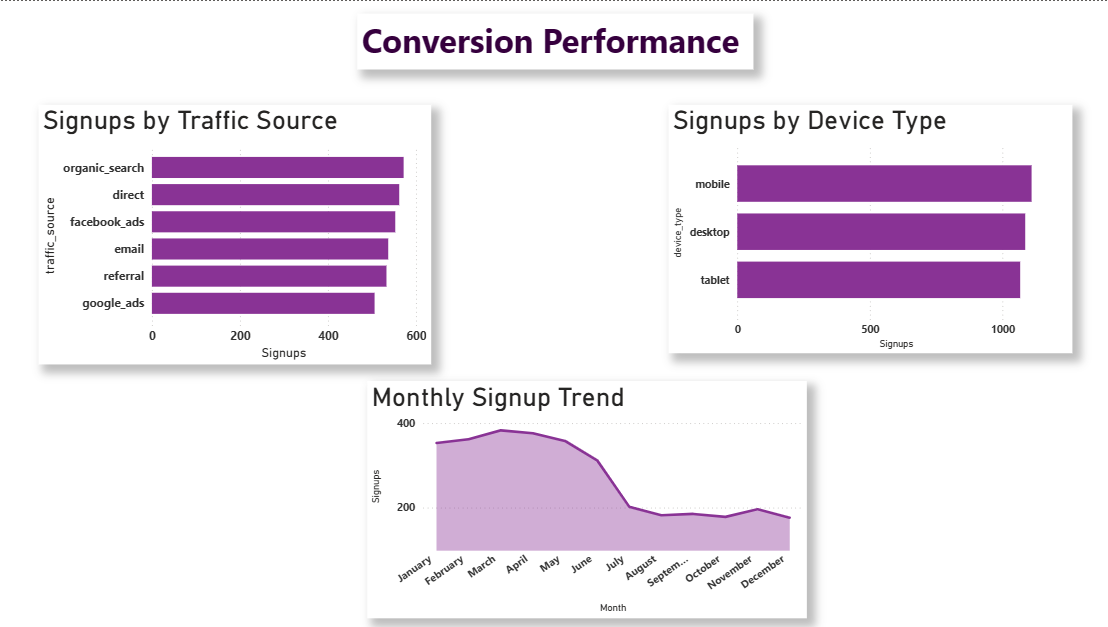

What the dashboard file says about the page in this screenshot:
{"tool":"powerbi","page":{"name":"Conversion Analysis","canvas":[1280,720],"ordinal":1},"visuals":[{"type":"clusteredBarChart","title":"Signups by Traffic Source","fields":{"Y":["Measures_table.Signups"],"Category":["users.traffic_source"]},"box":[48.6,118.6,448.6,297.1],"z":0},{"type":"clusteredBarChart","title":"Signups by Device Type","fields":{"Category":["users.device_type"],"Y":["Measures_table.Signups"]},"box":[768.6,118.6,461.4,284.3],"z":1000},{"type":"textbox","box":[413.6,14.3,452.9,64.3],"z":2000},{"type":"lineChart","title":"Monthly Signup Trend","fields":{"Category":["events.event_time.Variation.Date Hierarchy.Month"],"Y":["Measures_table.Signups"]},"box":[424.3,434.5,502.7,270.9],"z":3000}]}

Visuals, with their boxes in screenshot pixels (x1, y1, x2, y2), scaled from the page's 1280x720 canvas onto the 1108x627 screenshot:
"Signups by Traffic Source" clusteredBarChart: (x1=42, y1=103, x2=430, y2=362)
"Signups by Device Type" clusteredBarChart: (x1=665, y1=103, x2=1065, y2=351)
textbox: (x1=358, y1=12, x2=750, y2=68)
"Monthly Signup Trend" lineChart: (x1=367, y1=378, x2=802, y2=614)
